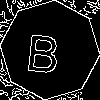B: (25, 25, 62, 74)
